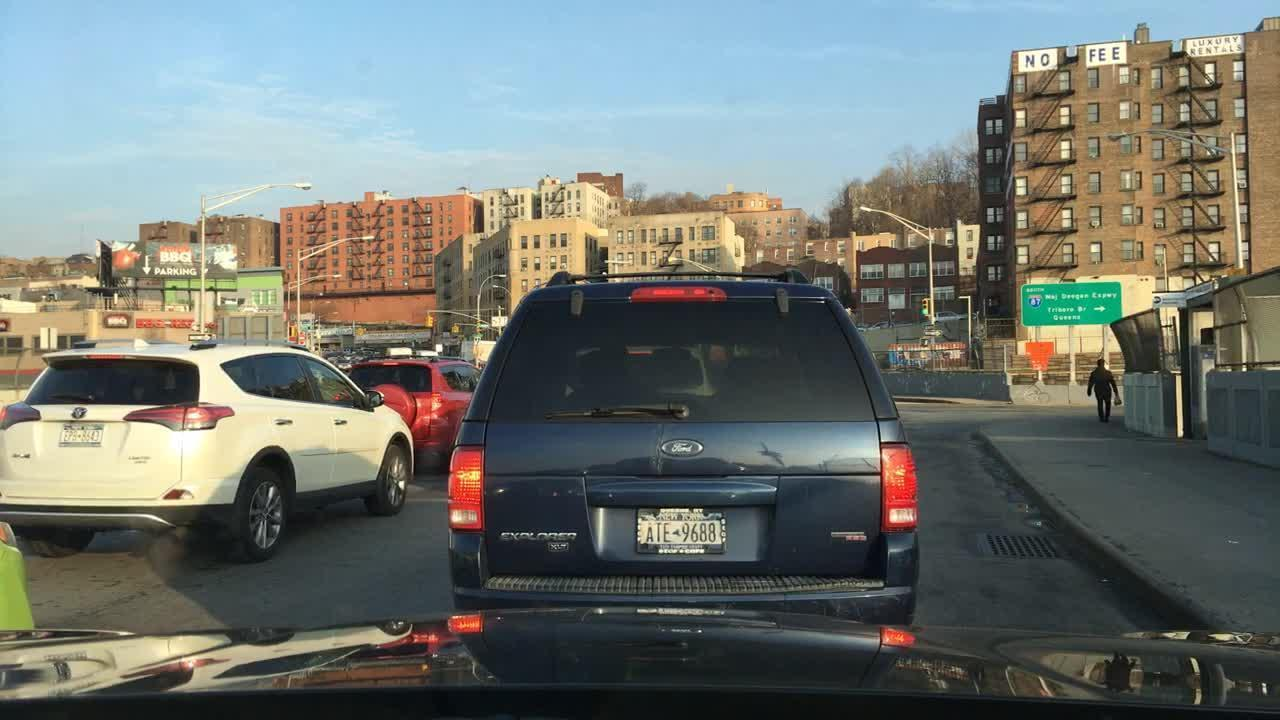Toyota: (66, 406, 95, 423)
ford: (648, 436, 720, 459)
